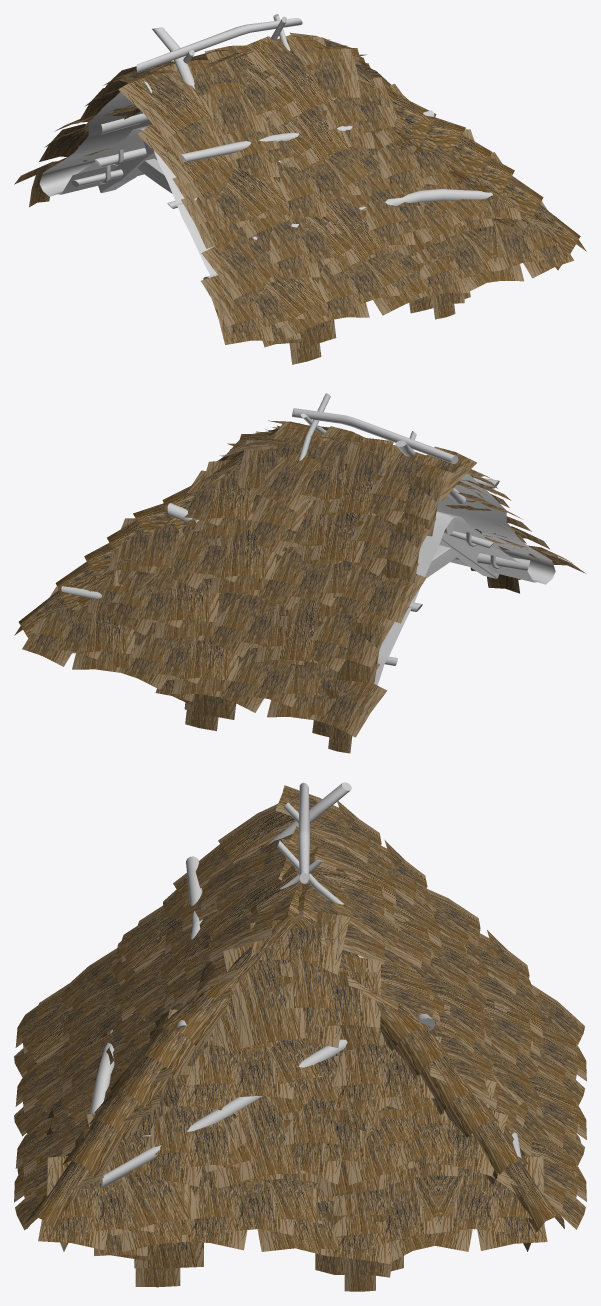
Rendered from SM_roofEndSlope6m_a1.fbx.
3 renders of one model, top to bottom at view 1: azimuth 30°, elevation 25°; view 2: azimuth 150°, elevation 25°; view 3: azimuth 270°, elevation 25°, orthographic. The views are drawn at different scales.
Visible parts, largest first — view 1: SM_roofEndSlope6m_a1_LOD0; view 2: SM_roofEndSlope6m_a1_LOD0; view 3: SM_roofEndSlope6m_a1_LOD0.
Part boxes in pixels (box(x1,y1,x2,y2)): SM_roofEndSlope6m_a1_LOD0: box(14, 14, 586, 364); SM_roofEndSlope6m_a1_LOD0: box(14, 393, 585, 753); SM_roofEndSlope6m_a1_LOD0: box(14, 782, 586, 1291).
Bounding box in the file's own units: 746 × 765 × 470.
4 materials, 1 textured.
